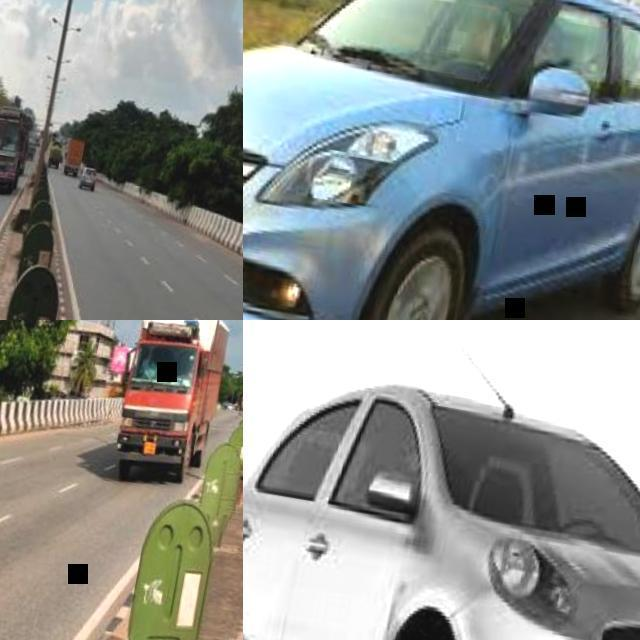car: (236, 0, 636, 639), (118, 323, 227, 481)
